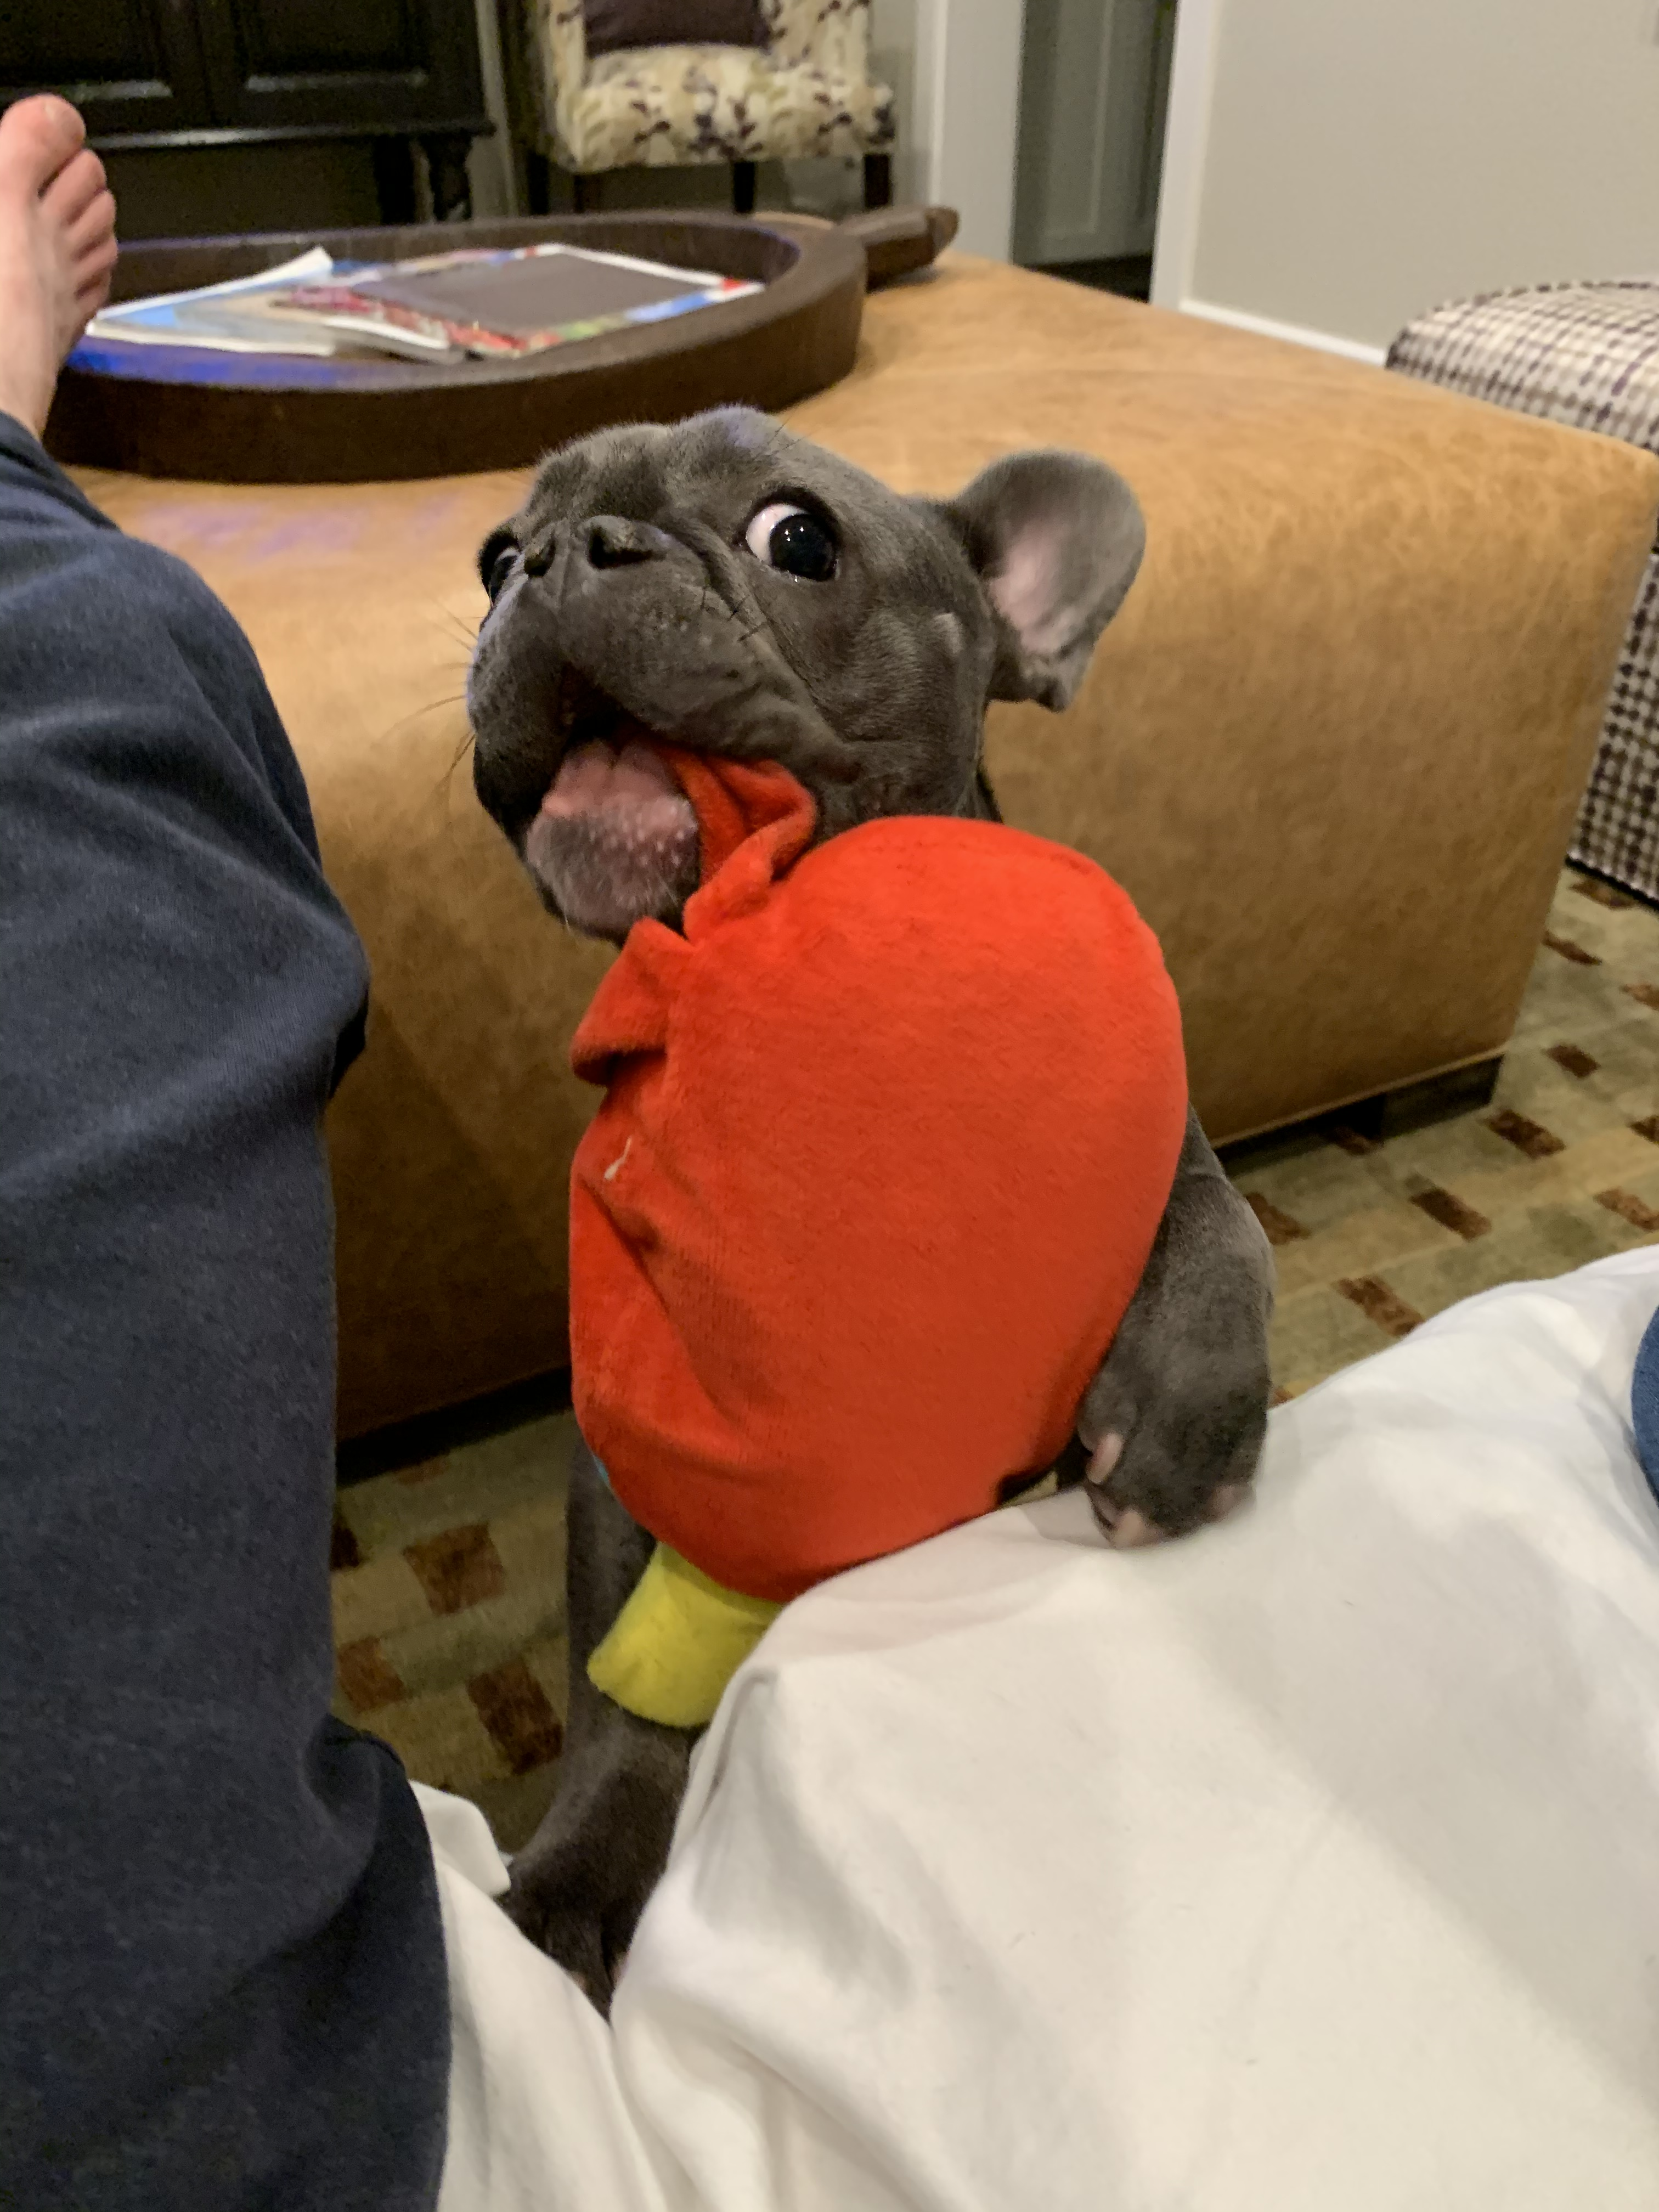lucy: (444, 394, 1295, 1979)
